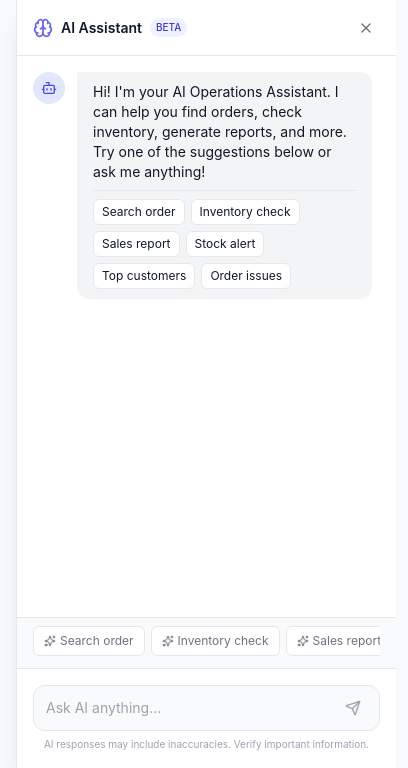
AIAssistantPanel › shows the model's answer as text, not as an object
Type "what is low?" into the field at (188, 708), box [46,698,331,718]
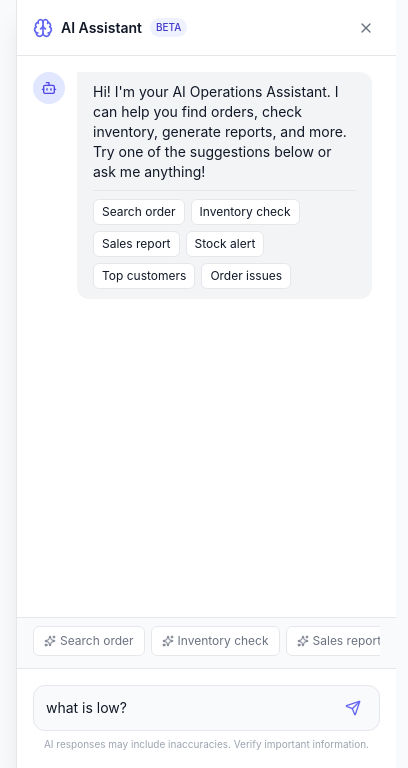
Press Enter in the field, box [46,698,331,718]
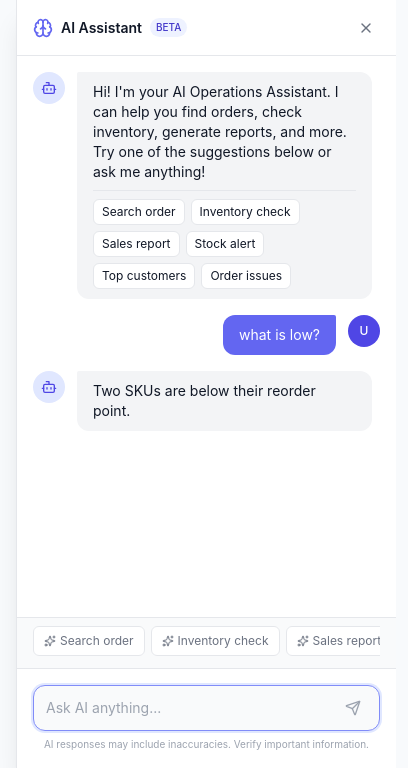
Check: the text "Two SKUs are below their reorder point." is shown, box [93,381,356,421]
